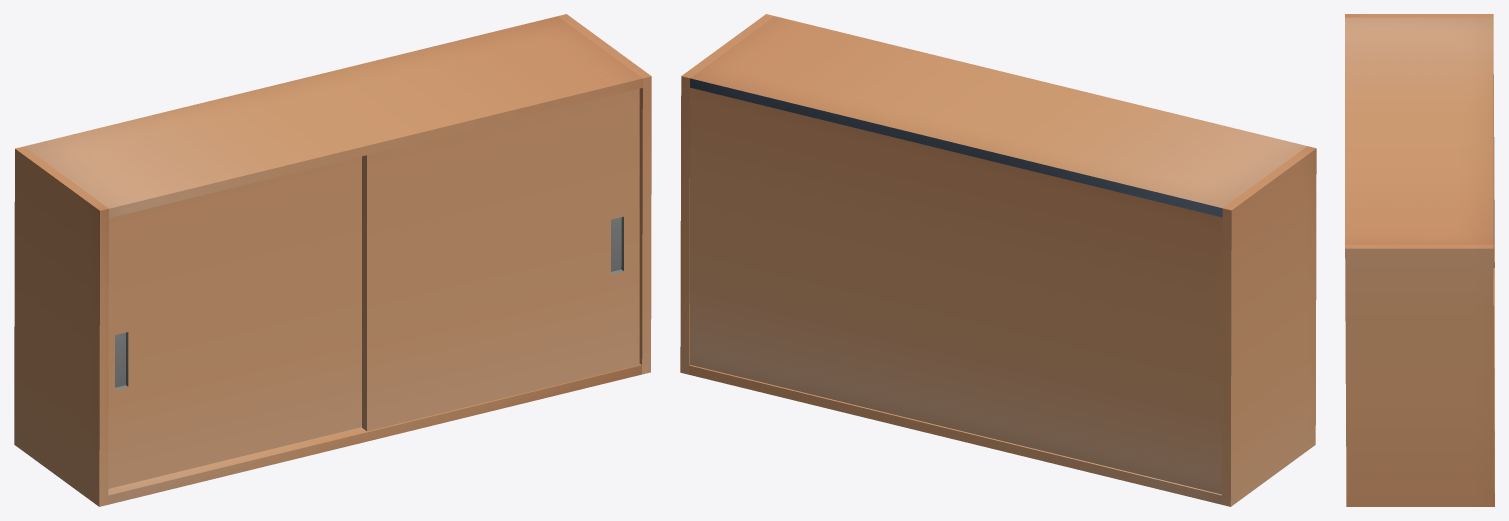
The model's file is cabin05bd.fbx.
3 renders of one model, left to right at view 1: azimuth 30°, elevation 25°; view 2: azimuth 150°, elevation 25°; view 3: azimuth 270°, elevation 25°, orthographic. The views are drawn at different scales.
Visible parts, largest first — view 1: cabin05bd; view 2: cabin05bd; view 3: cabin05bd.
Part boxes in pixels (left/top/right/bottom): cabin05bd: left=14, top=14, right=651, bottom=506; cabin05bd: left=680, top=14, right=1316, bottom=506; cabin05bd: left=1345, top=14, right=1494, bottom=506.
Bounding box in the file's own units: 1.24 × 0.6369 × 0.3345.
